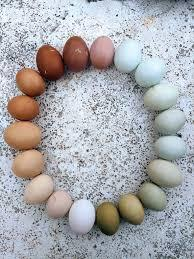egg: (8, 171, 52, 205), (133, 177, 169, 215), (7, 64, 48, 97), (141, 160, 185, 188), (68, 193, 94, 237), (60, 34, 90, 72), (4, 96, 45, 122), (142, 82, 182, 108), (34, 44, 66, 76), (155, 136, 189, 165), (132, 56, 162, 88), (10, 152, 42, 182), (1, 122, 35, 149), (94, 202, 123, 233), (91, 36, 115, 70), (116, 37, 140, 71), (153, 110, 187, 133), (43, 194, 74, 218), (116, 192, 140, 216)
